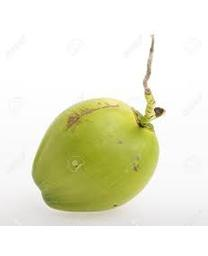coconut: (31, 97, 161, 212)
